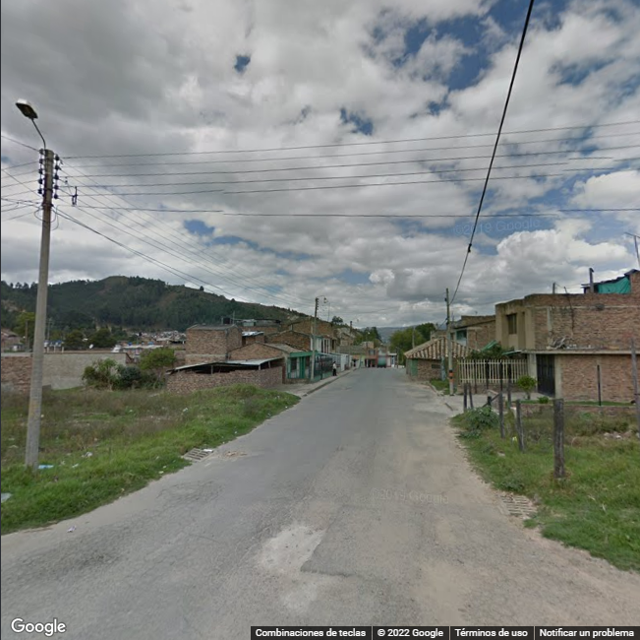D20: (3, 506, 169, 605), (456, 586, 530, 623), (160, 479, 221, 504)
